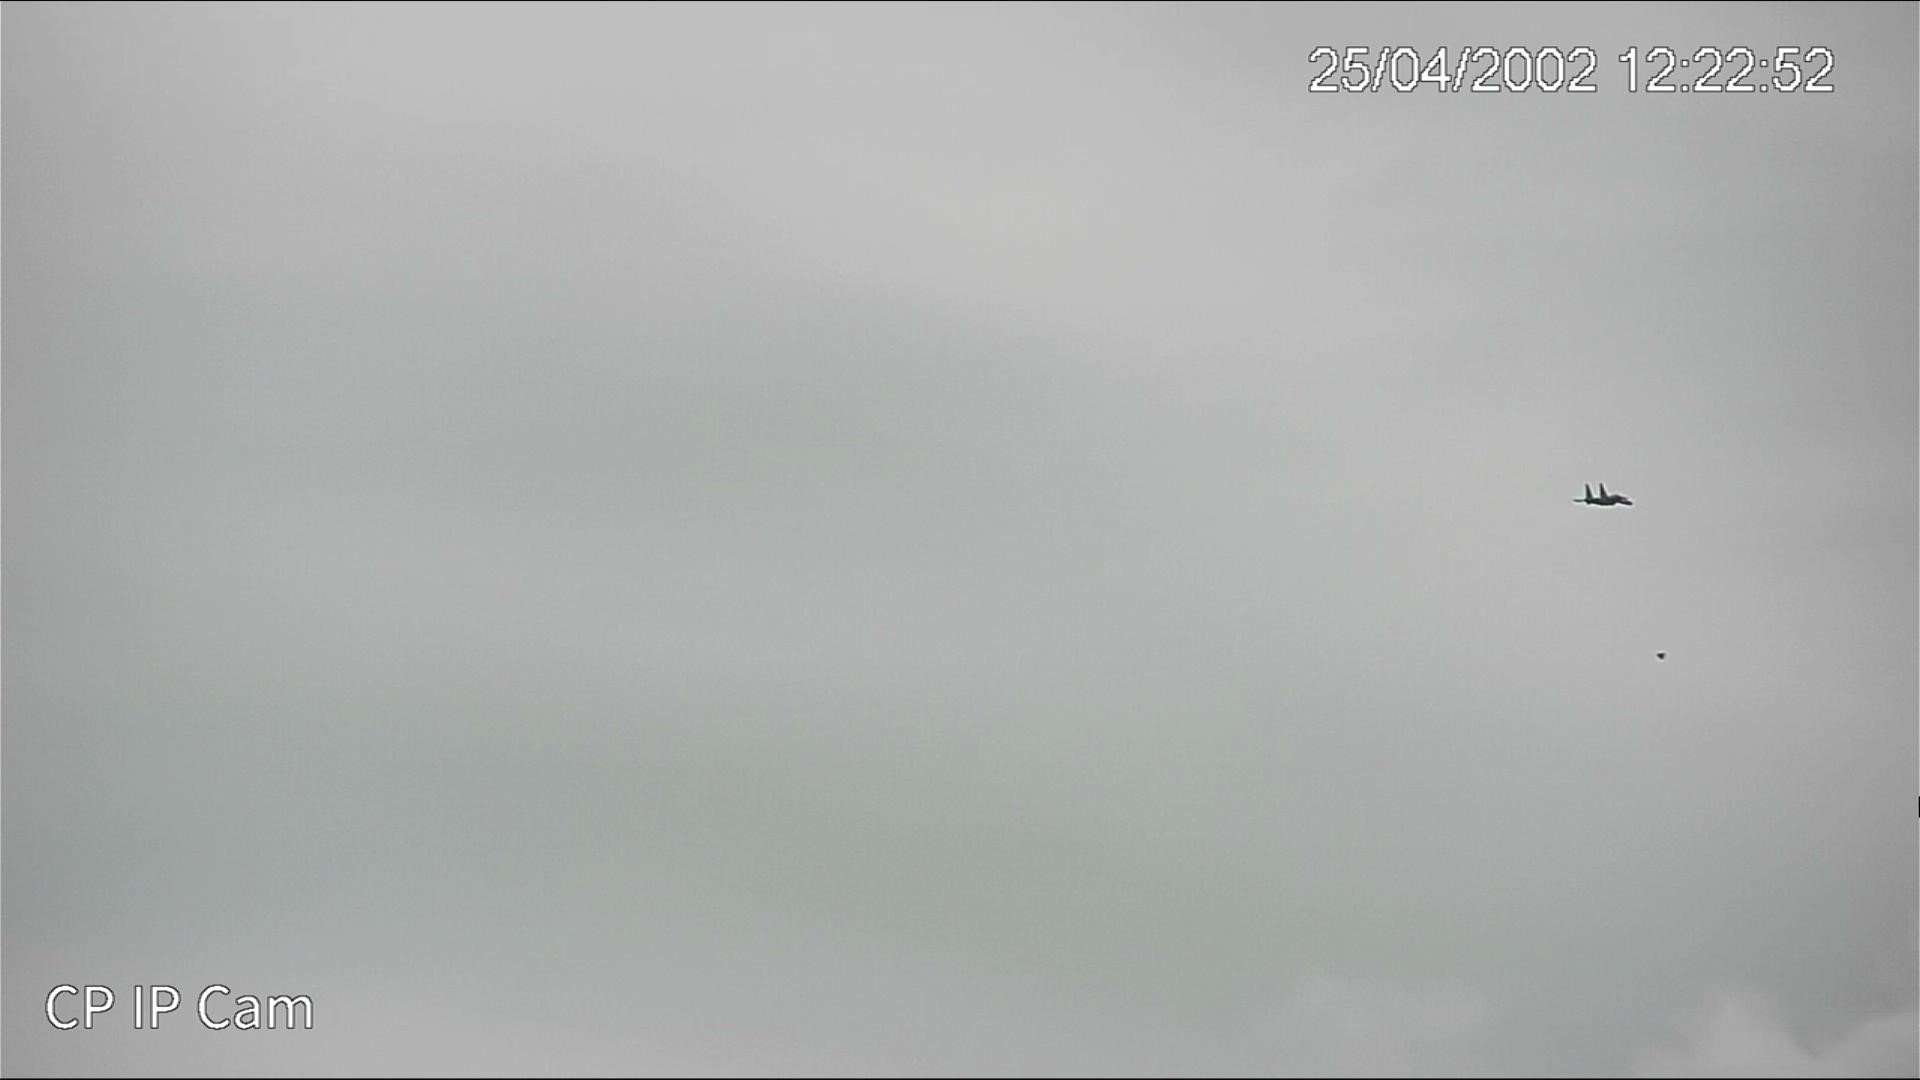SU_30: (1568, 477, 1646, 517)
